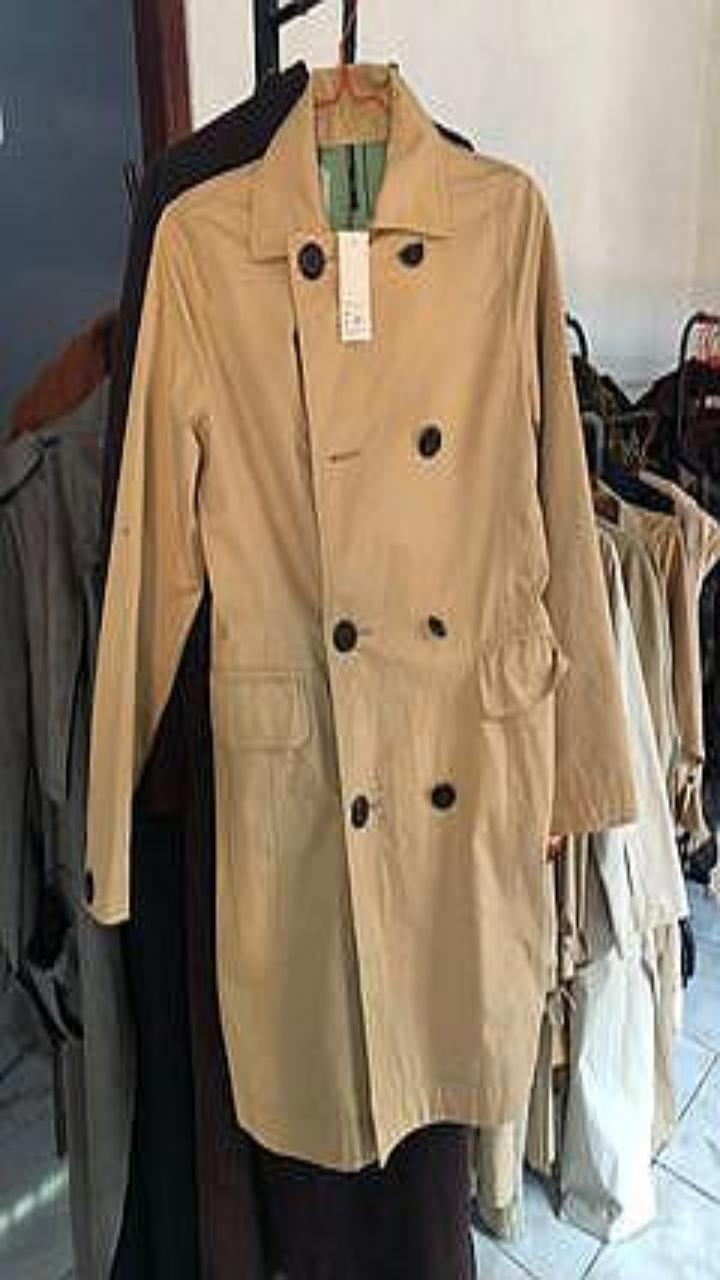Coat: (88, 68, 633, 1167), (127, 607, 474, 1279), (0, 384, 134, 1279)
